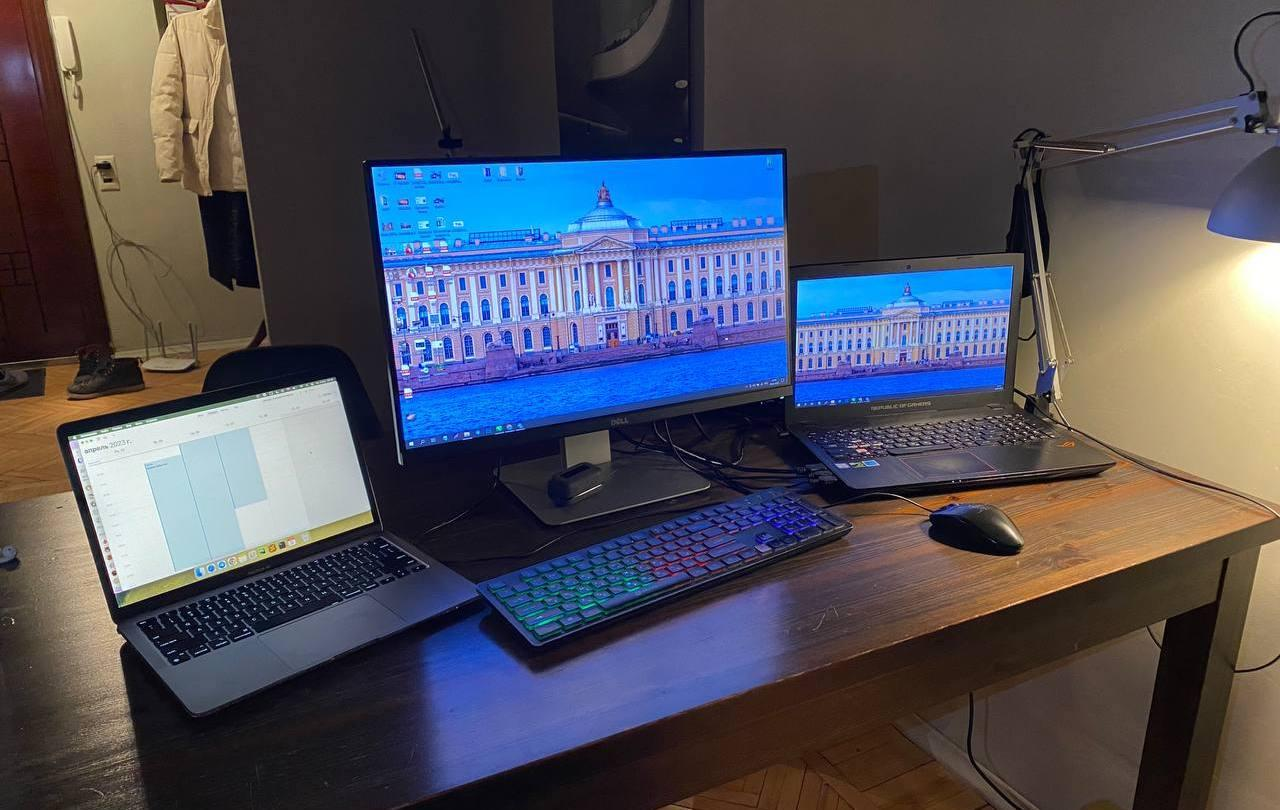monitor: (363, 144, 797, 469), (56, 368, 386, 623), (785, 248, 1029, 429)
